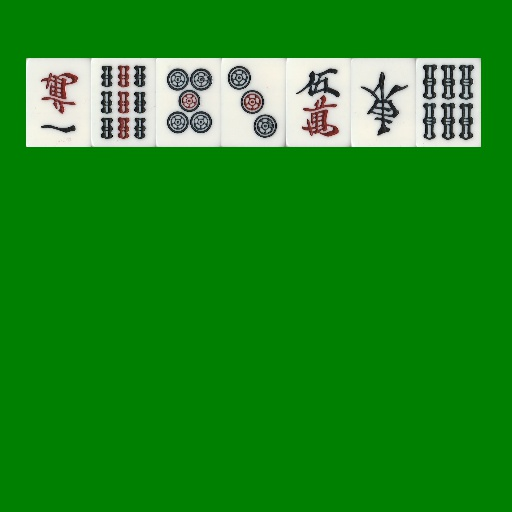1m: (26, 58, 91, 147)
3p: (221, 58, 286, 147)
5m: (286, 58, 351, 147)
5p: (156, 58, 221, 147)
6s: (416, 58, 481, 147)
9s: (91, 58, 156, 147)
east: (351, 58, 416, 147)
